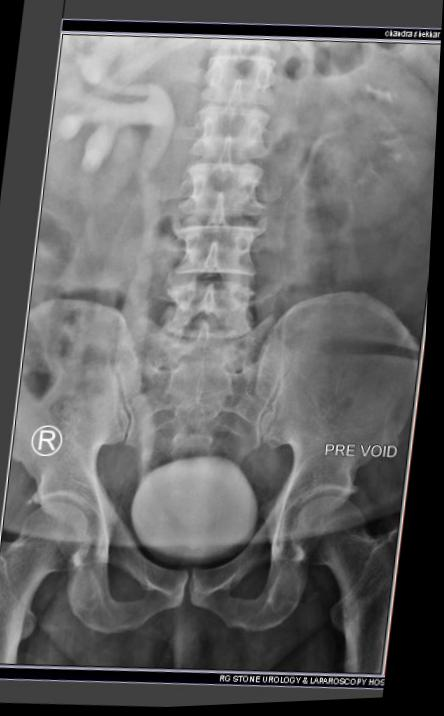bladder: (82, 461, 259, 605)
left kidney: (282, 9, 442, 229)
vertebrae: (166, 16, 268, 87)
